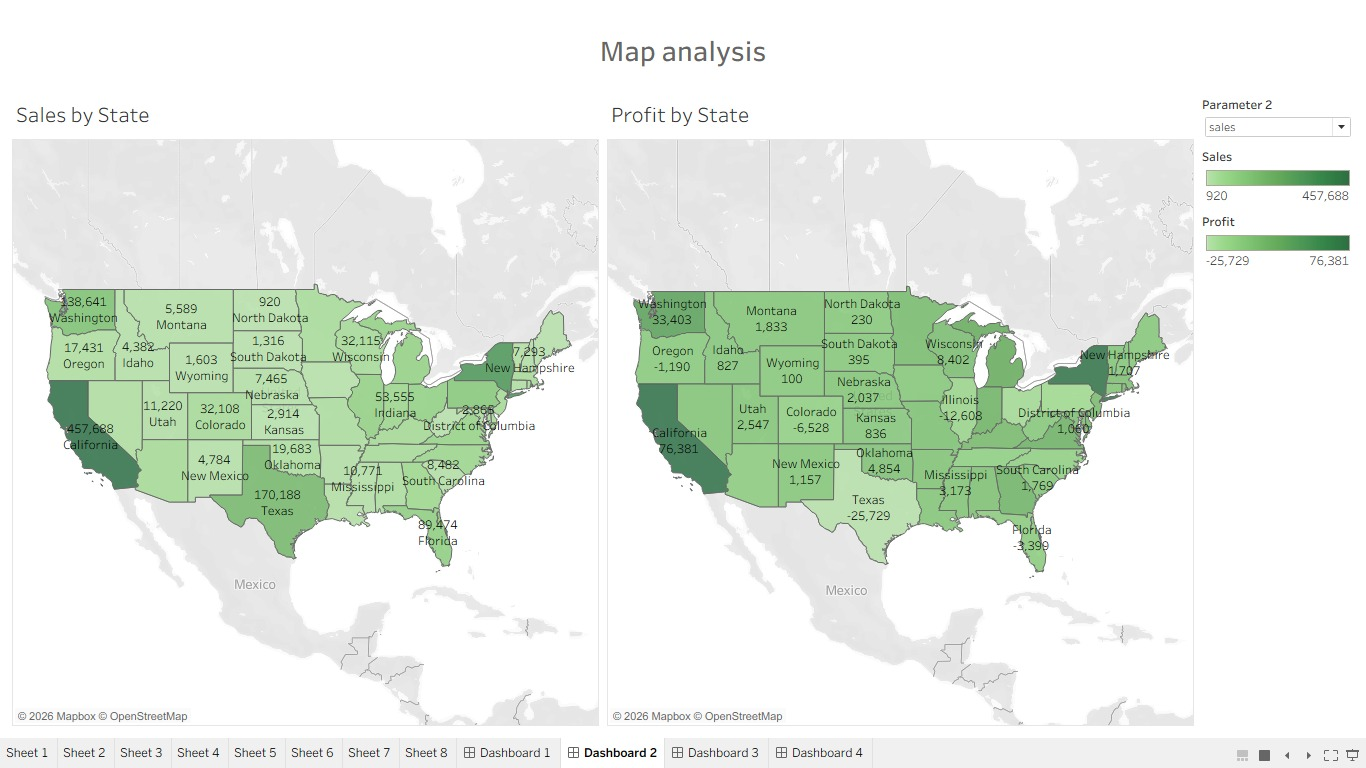

The dashboard page shown, as its layout file describes it:
{"tool":"tableau","page":{"name":"Dashboard 2","canvas":[1000,1000],"units":"permille","ordinal":1},"visuals":[{"type":"text","box":[5.9,10.8,988.3,113.7]},{"type":"worksheet","title":"Sheet 5","mark":"Automatic","box":[5.9,124.5,435.6,864.6]},{"type":"worksheet","title":"Sheet 6","mark":"Automatic","box":[441.4,124.5,435.6,864.6]},{"type":"parameter","param":"[Parameters].[Parameter 0630055269834754]","box":[877,124.5,117.1,70.5]},{"type":"legend","title":"Sheet 5","param":"[federated.0l0dk5t0gwyycw1fptb6117qf8yz].[sum:Sales:qk]","box":[877,195,117.1,88.1]},{"type":"legend","title":"Sheet 6","param":"[federated.0l0dk5t0gwyycw1fptb6117qf8yz].[sum:Profit:qk]","box":[877,283.1,117.1,88.1]}]}

Visuals, with their boxes on the dashboard's canvas, which has no fixed pixel size, in thousandths of its width and height (x1, y1, x2, y2). These are canvas units, not pixel positions in the 1366x768 screenshot, which may show the page scaled, cropped or inside an application window:
text: detection(6, 11, 994, 124)
"Sheet 5" worksheet: detection(6, 124, 442, 989)
"Sheet 6" worksheet: detection(441, 124, 877, 989)
parameter: detection(877, 124, 994, 195)
"Sheet 5" legend: detection(877, 195, 994, 283)
"Sheet 6" legend: detection(877, 283, 994, 371)
